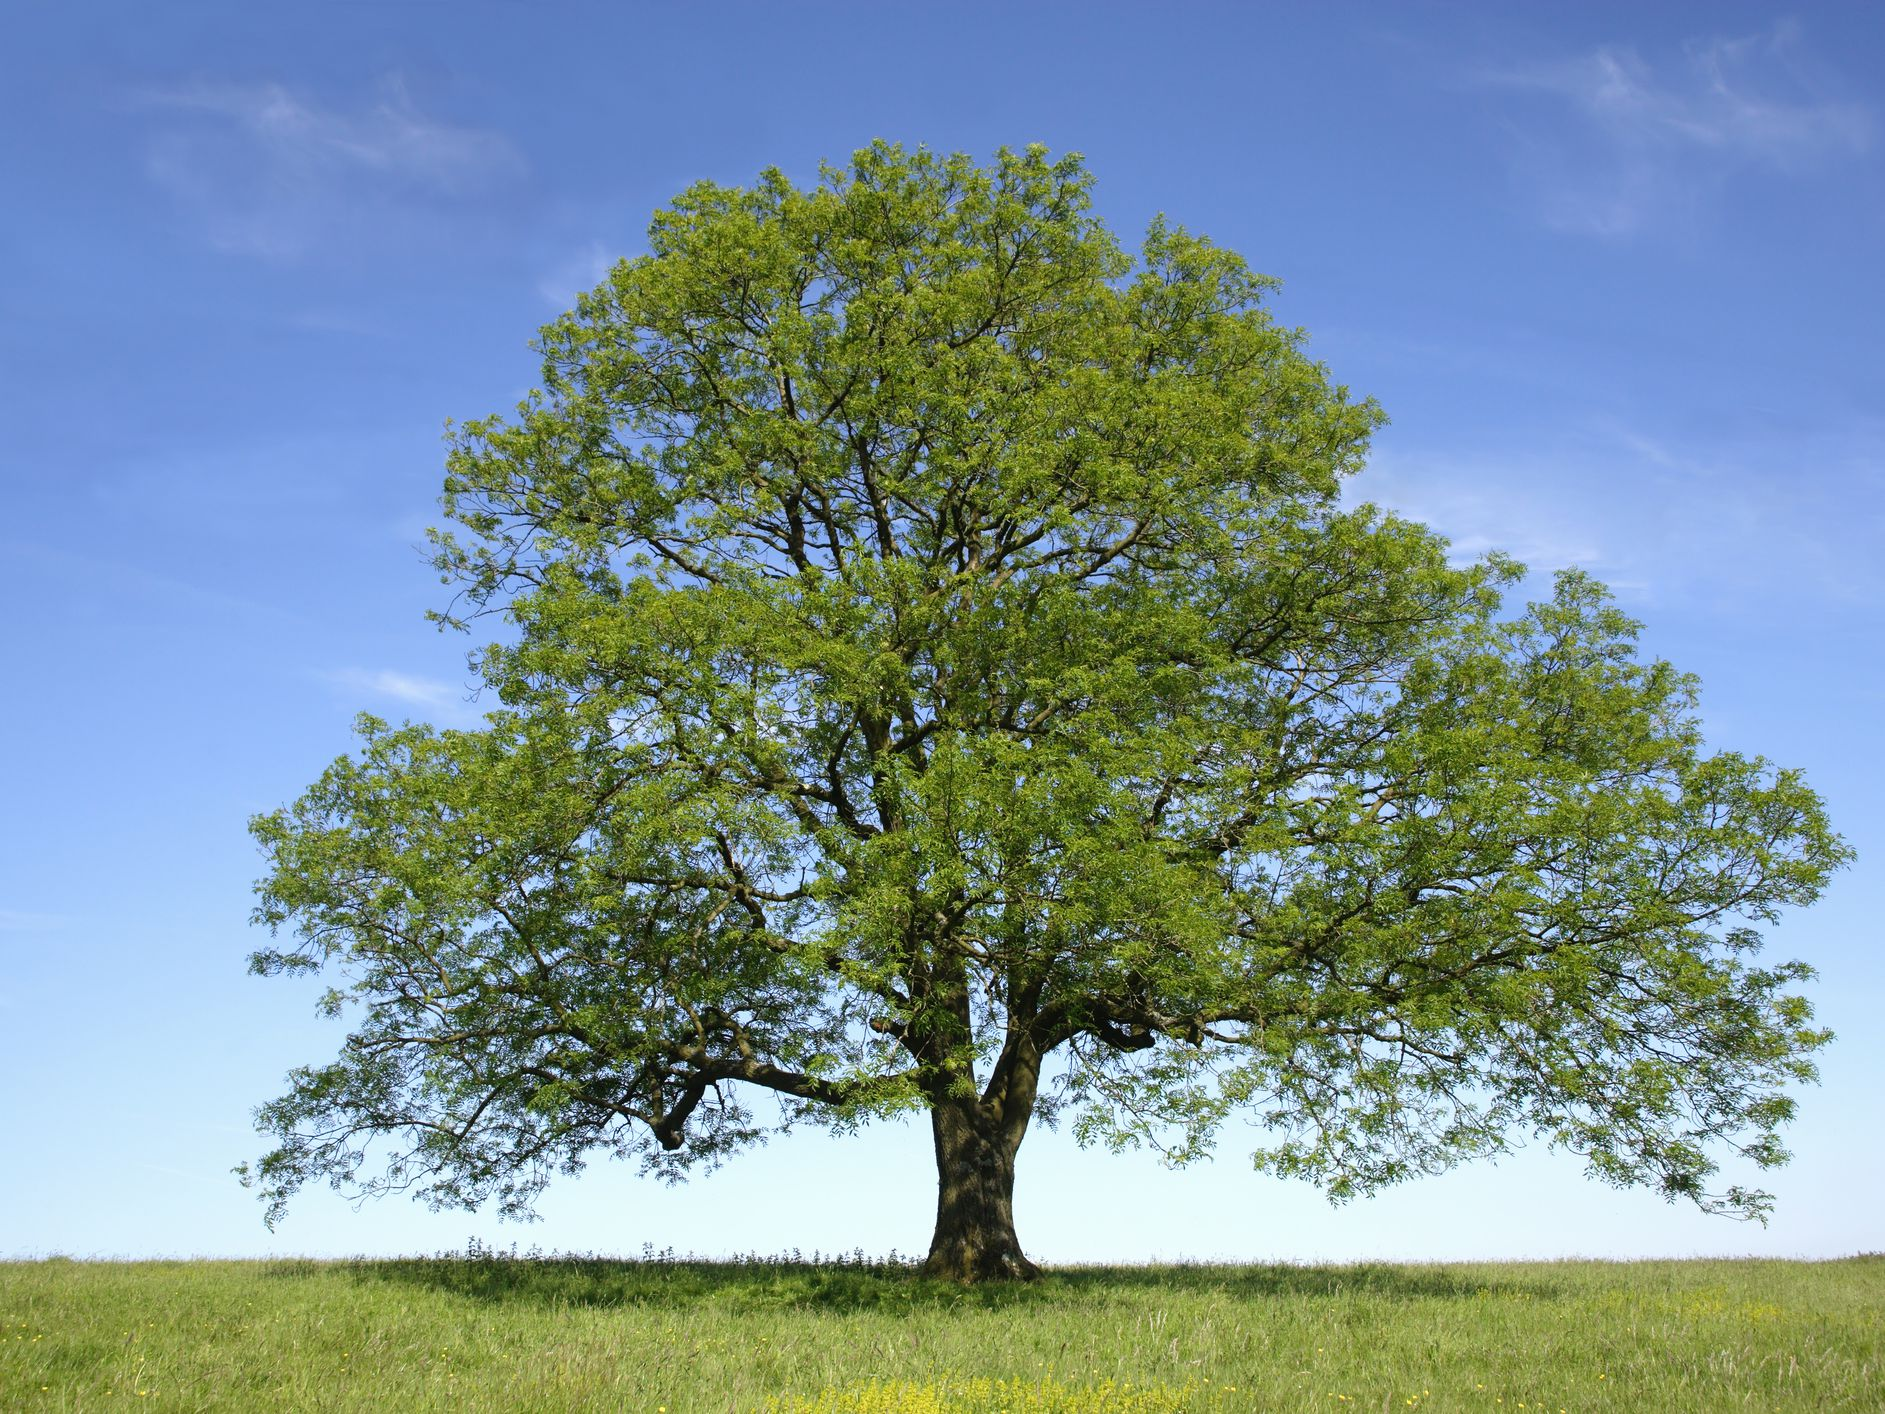tree: (232, 131, 1861, 1285)
